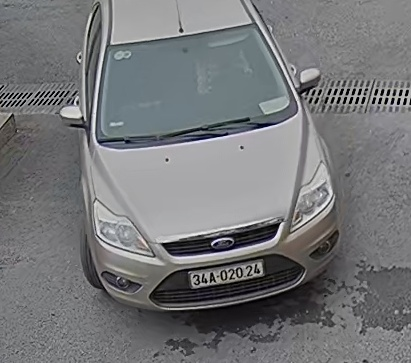vehicle plate: (184, 258, 266, 289)
